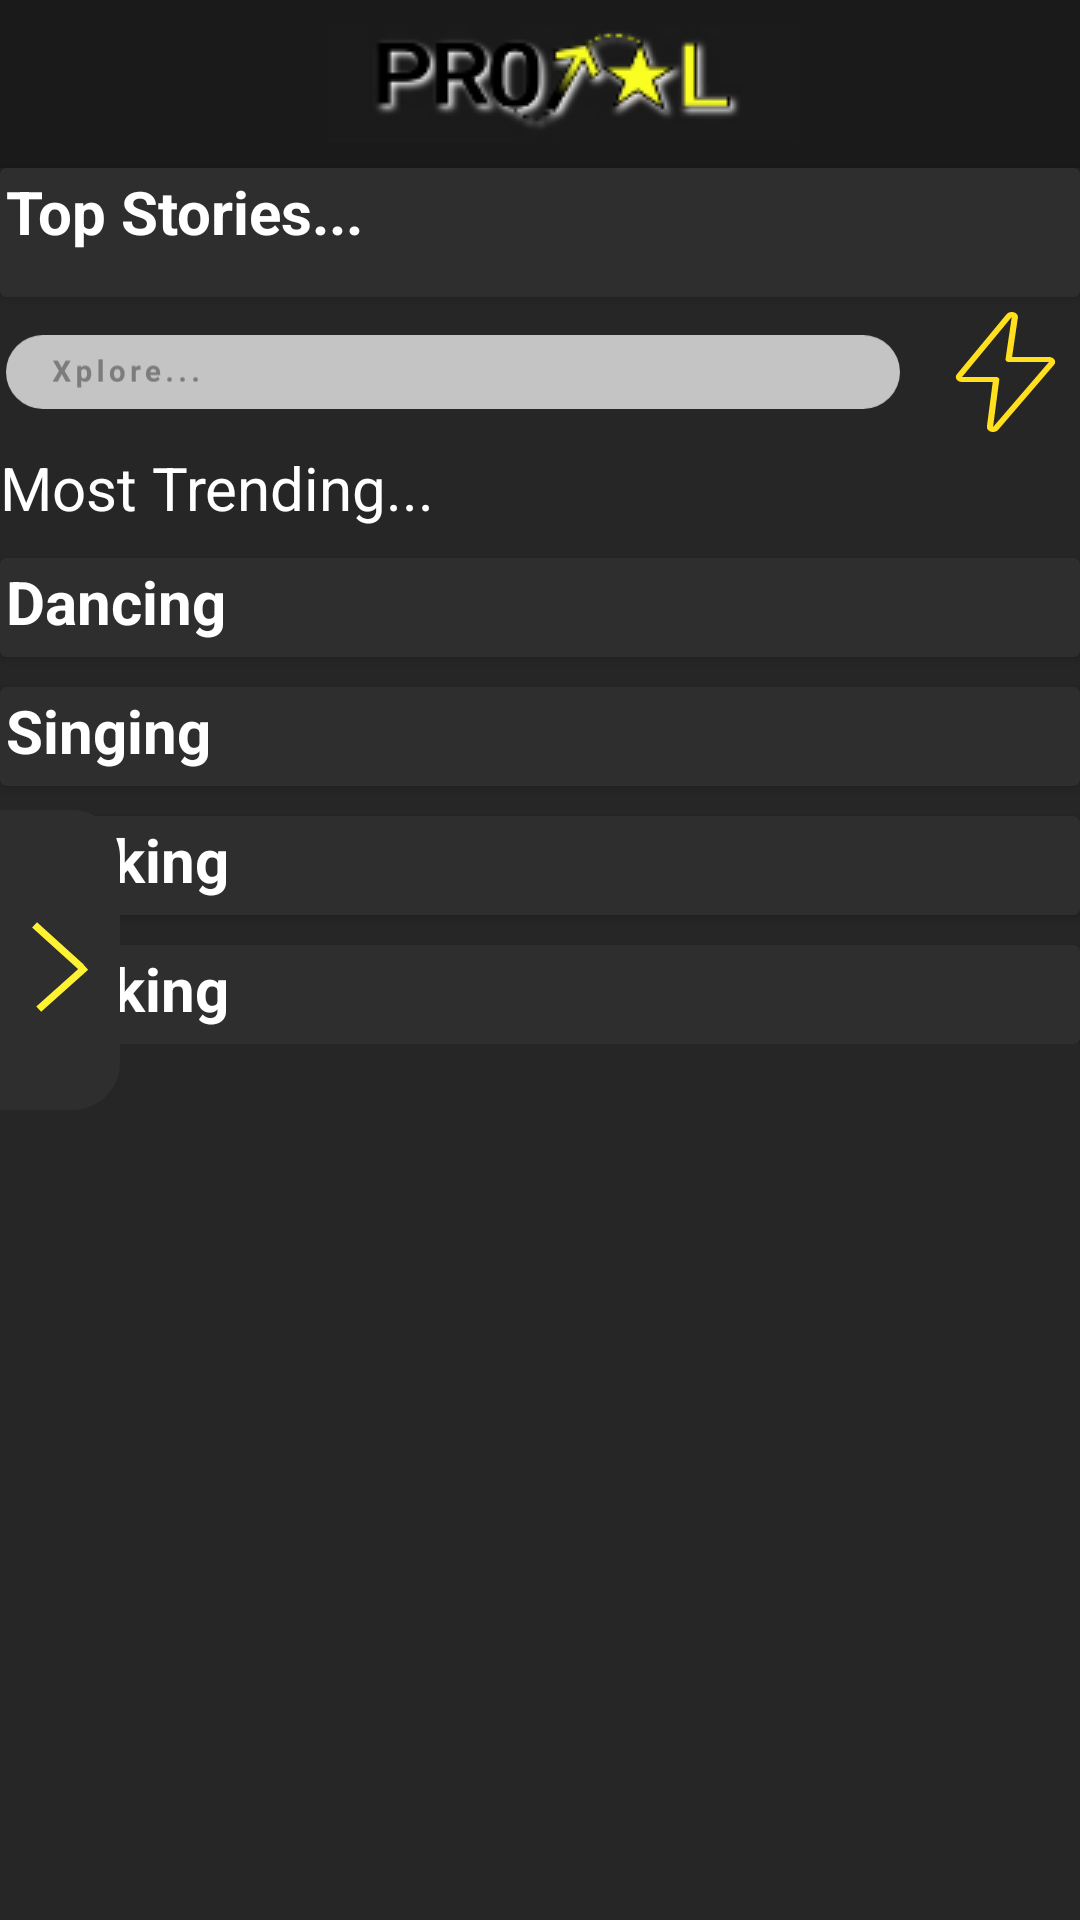

Screen size 1080 x 1920. Icon name, then its box in pixels as detection(x1, y1, x2, y2):
flash: detection(955, 312, 1055, 432)
